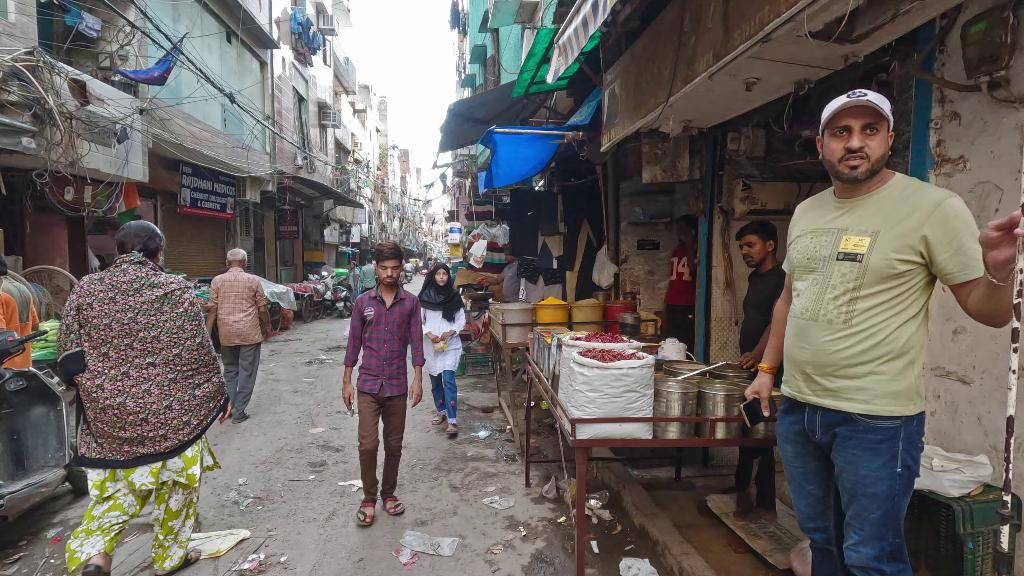garbage: (389, 516, 463, 571), (476, 483, 524, 521), (196, 528, 255, 556), (609, 549, 664, 576)
